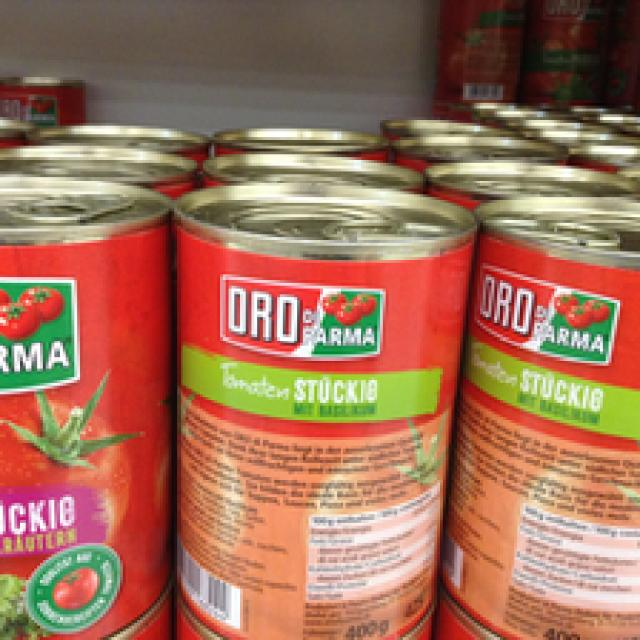groceries: (172, 177, 474, 634), (0, 172, 177, 637), (454, 192, 637, 634)
